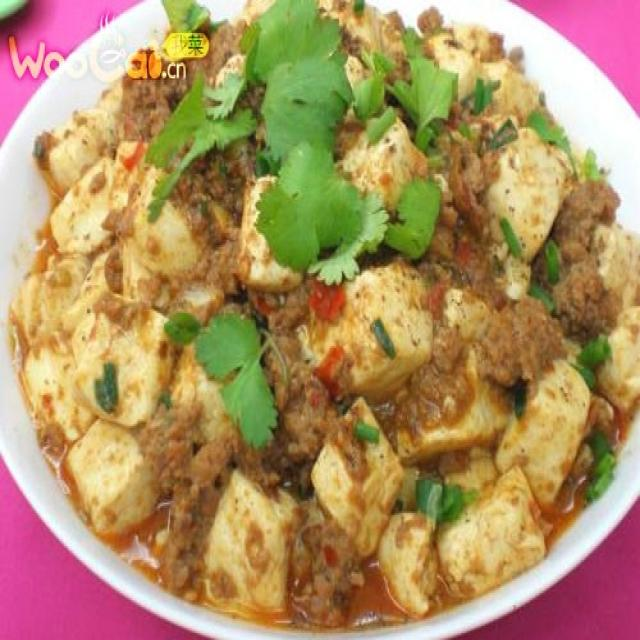豆腐料理: (8, 7, 631, 623)
